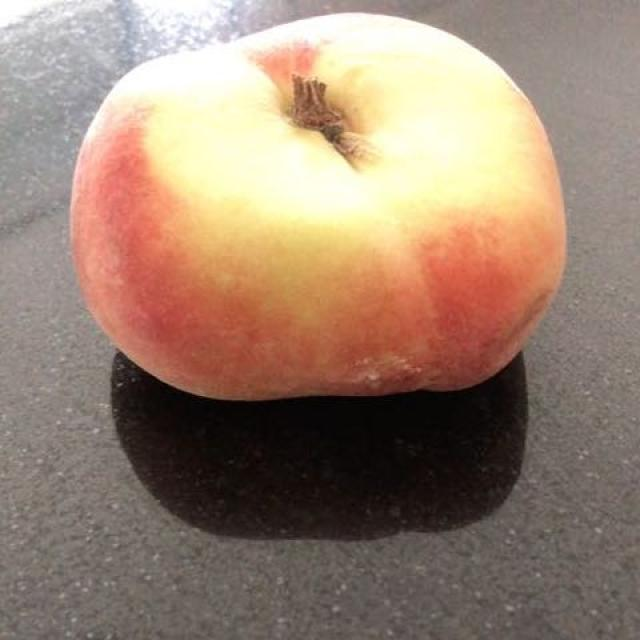peach: (83, 18, 555, 391)
